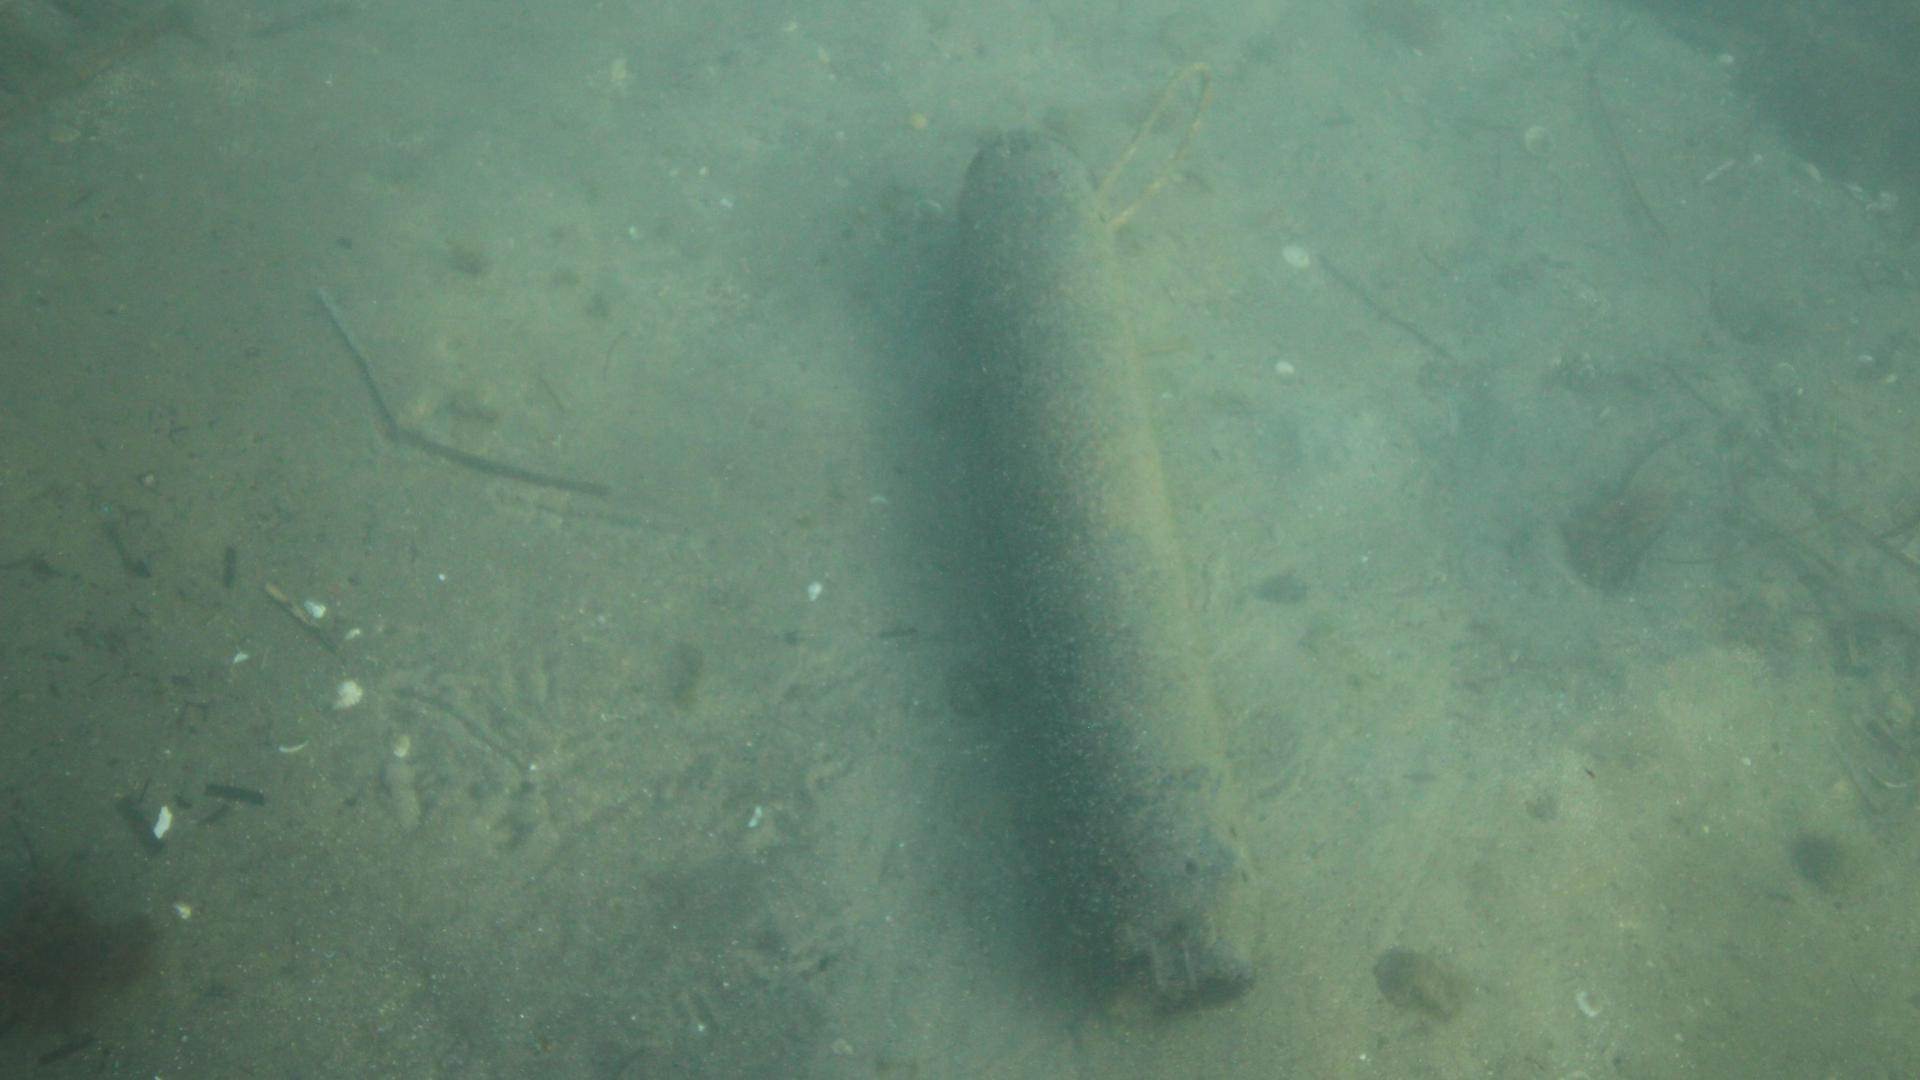eel fish trap: (955, 128, 1265, 1015)
rope: (1096, 61, 1211, 231)
